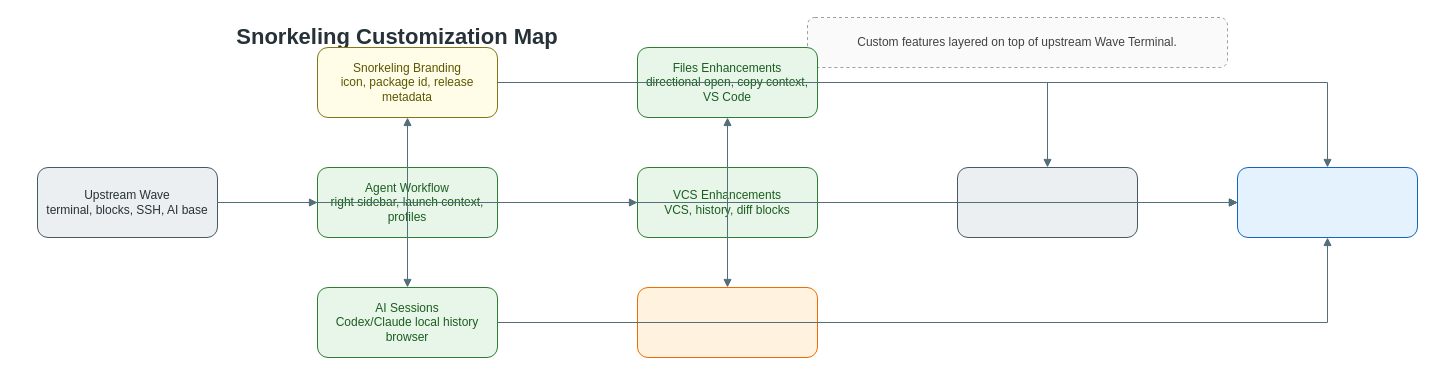
Some shapes in this 1435 by 375 pixel diagram are drawn without their labels. Here are the shapes that lost their labels. From the top down, the centre of each, then its label:
point 1047,202: Custom Release Path GitHub releases and install skill
point 1327,202: Product Goal stay in terminal for core workflows
point 727,322: Window/Layout Move tab to new window
